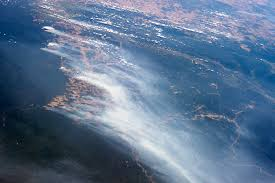smoke: (97, 66, 197, 158)
